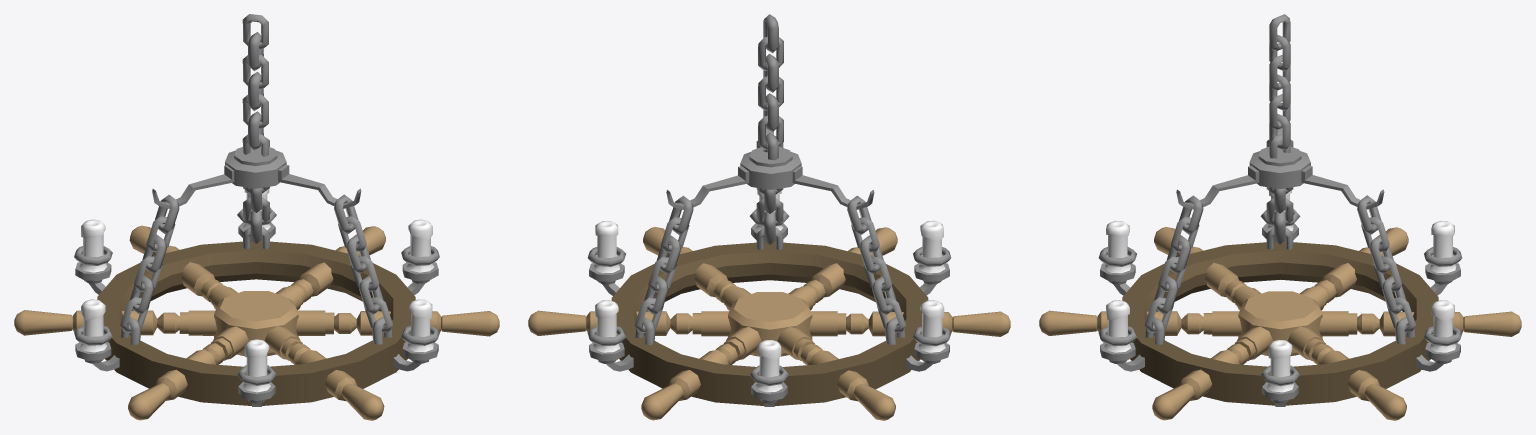
The model's file is chandelier.fbx.
3 renders of one model, left to right at view 1: azimuth 30°, elevation 25°; view 2: azimuth 150°, elevation 25°; view 3: azimuth 270°, elevation 25°, orthographic.
Visible parts, largest first — view 1: chandelier; view 2: chandelier; view 3: chandelier.
Boxes of the visible parts, x1=… form: chandelier: x1=14, y1=14, x2=499, y2=420; chandelier: x1=528, y1=14, x2=1010, y2=420; chandelier: x1=1039, y1=14, x2=1521, y2=420.
Size of the model in its own units: 624 by 537 by 710.
